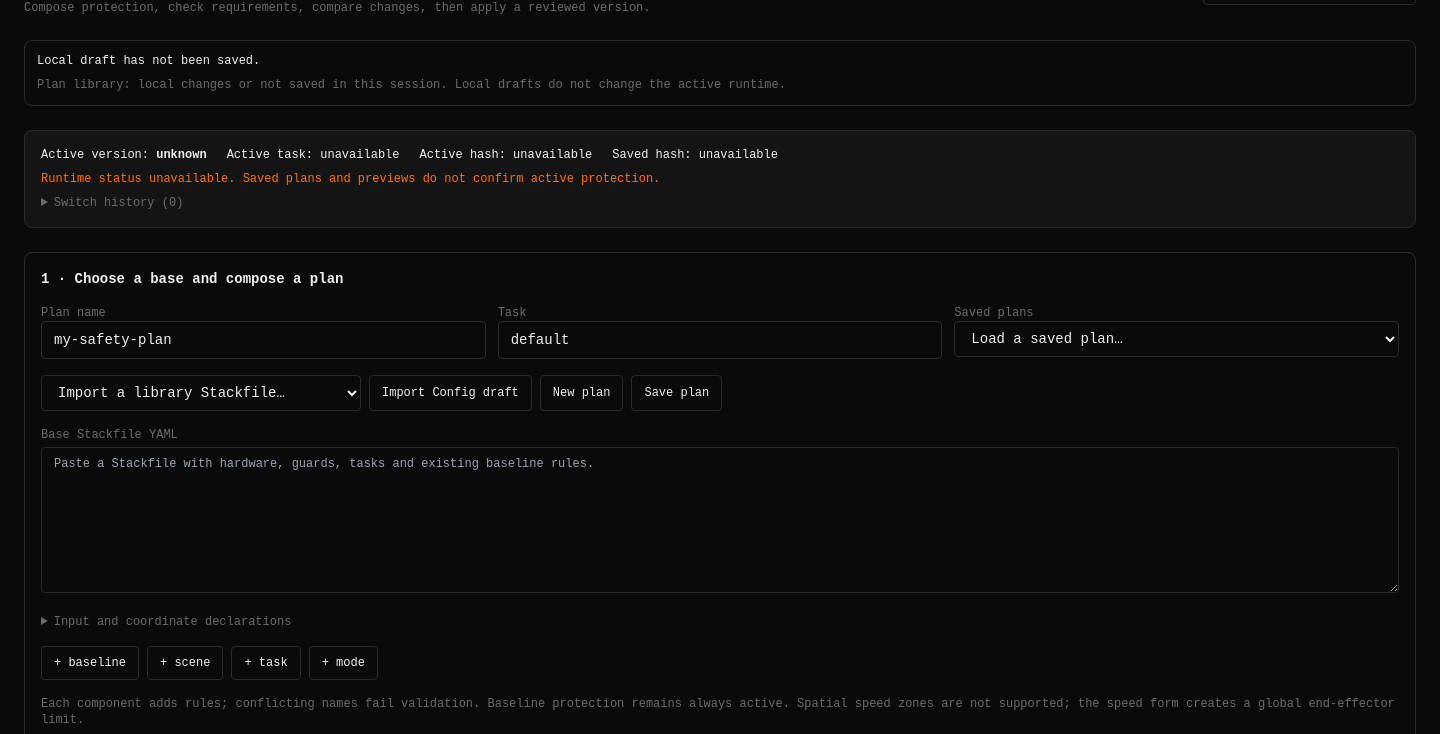
Test: exports the compiled candidate through exclusive Stackfile creation for replay comparison
Step 1. Replace the text in the text box labelled "Base Stackfile YAML" with "version: \"1\"" → point(720, 520), box [41,447,1399,593]
(page scrolled)
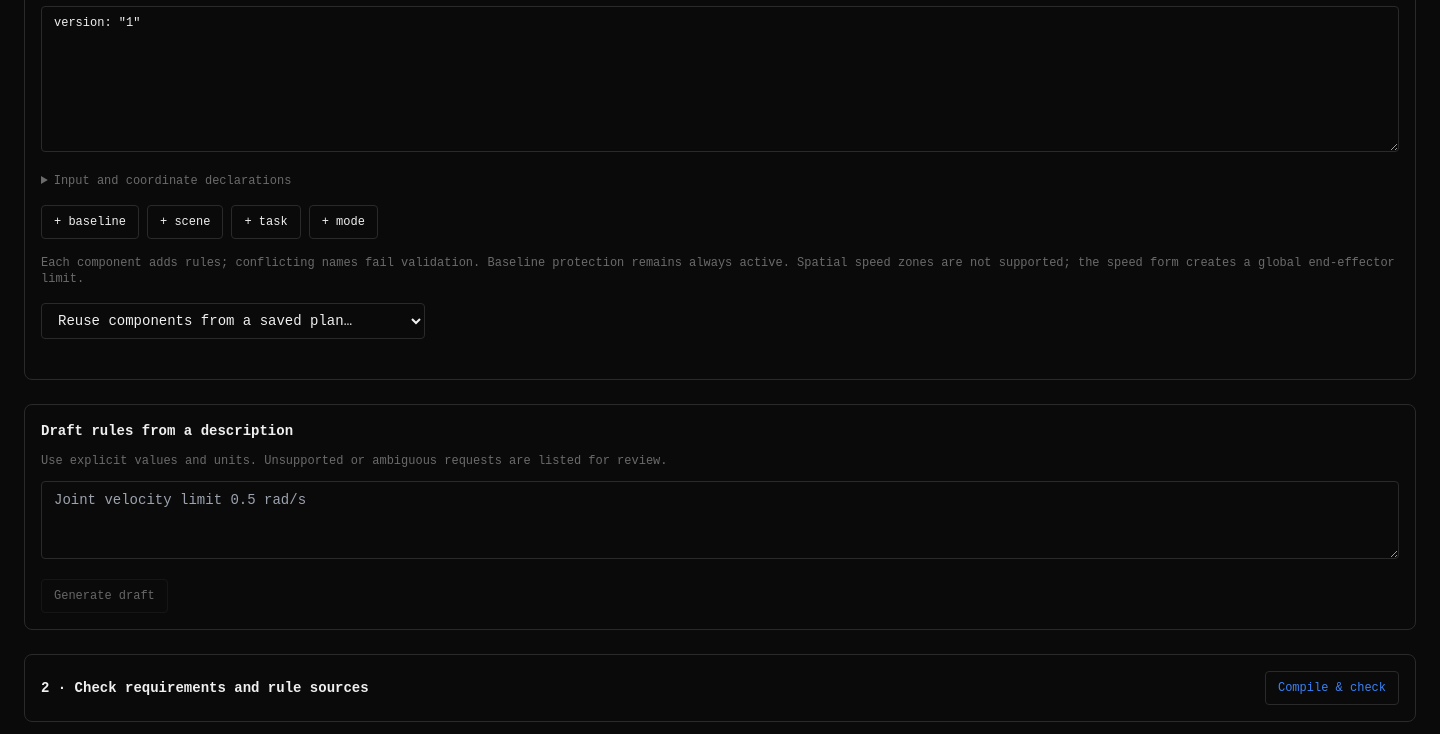
Step 2. Click the button "Compile & check" → point(1332, 688), box [1265,671,1399,705]
(page scrolled)
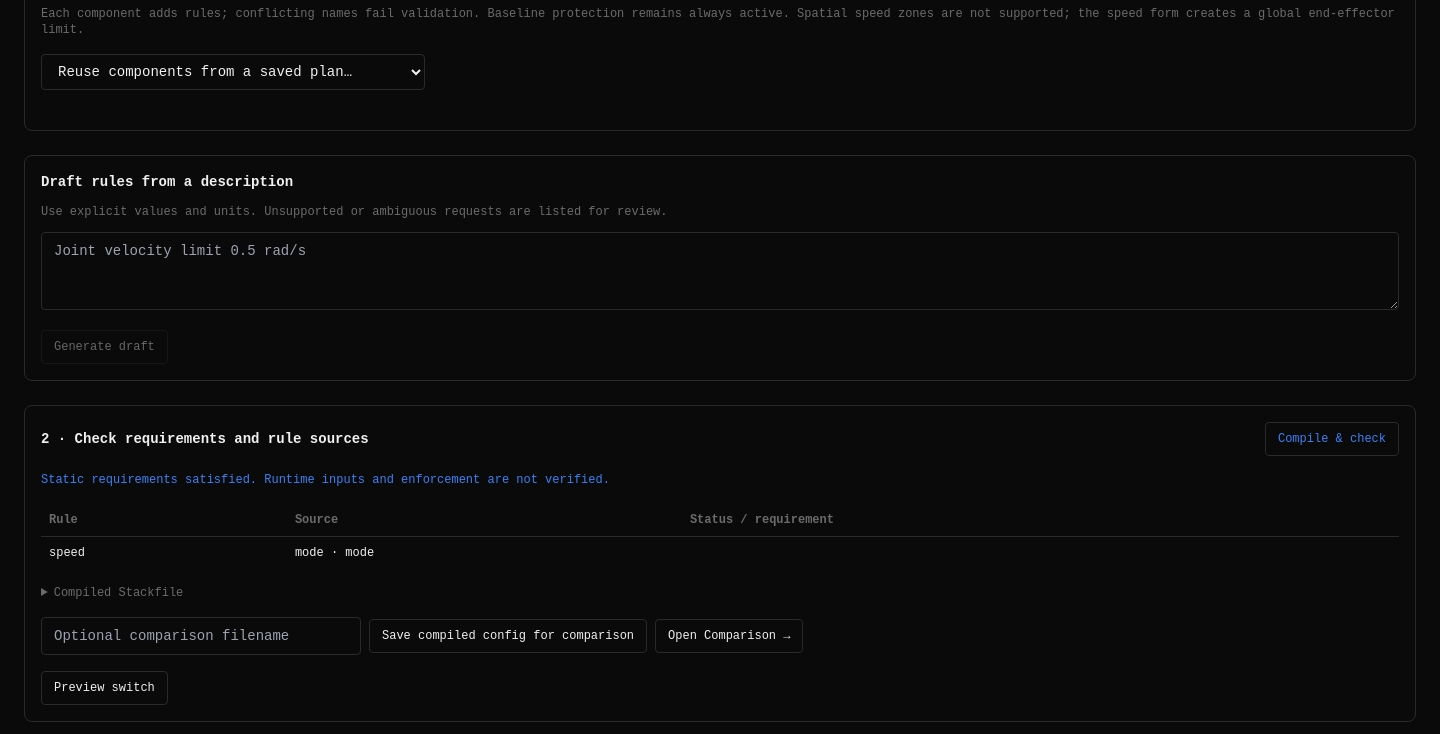
Check: the button "Save compiled config for comparison" is shown, box [369,619,647,653]
Step 3. Type "candidate" into the field named "Comparison Stackfile name" → point(201, 636), box [41,617,361,655]
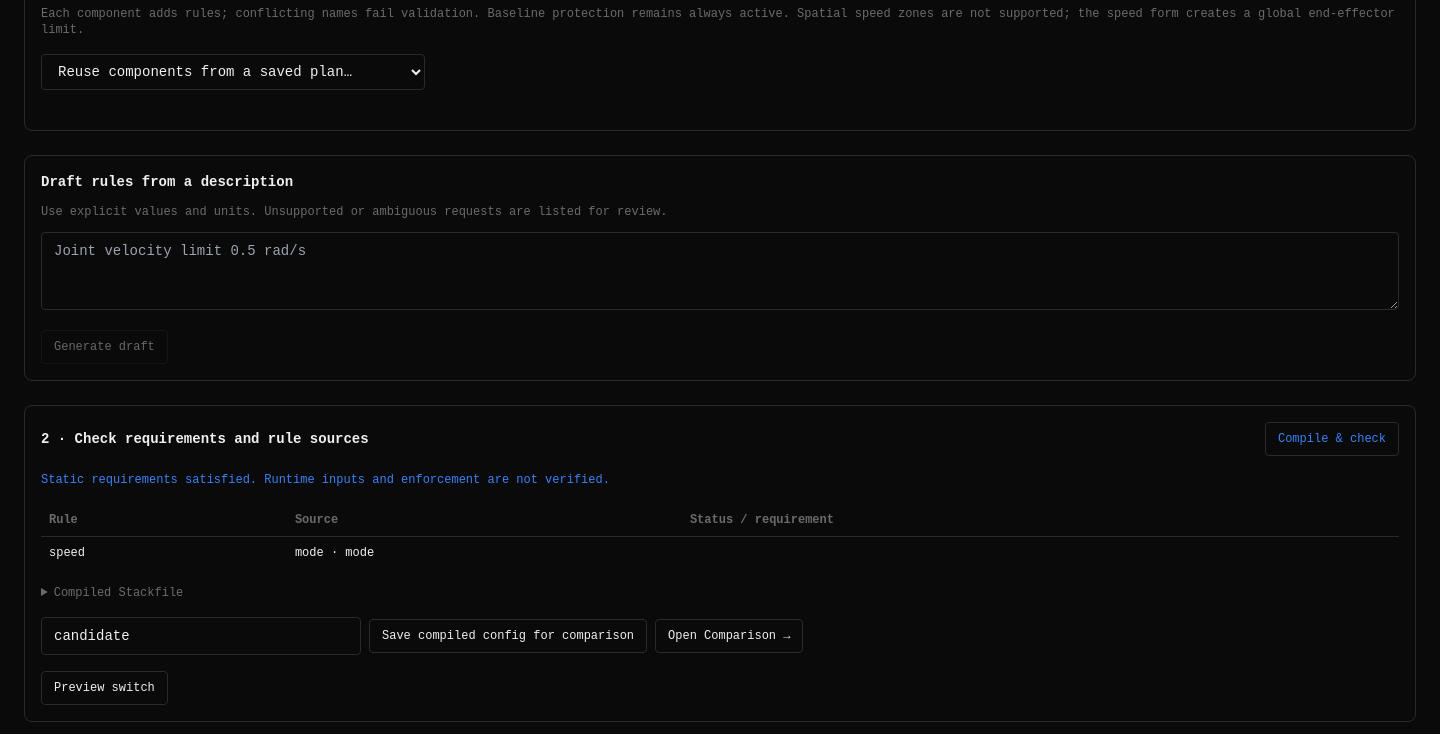
Step 4. Click the button "Save compiled config for comparison" → point(508, 636), box [369,619,647,653]
(page scrolled)
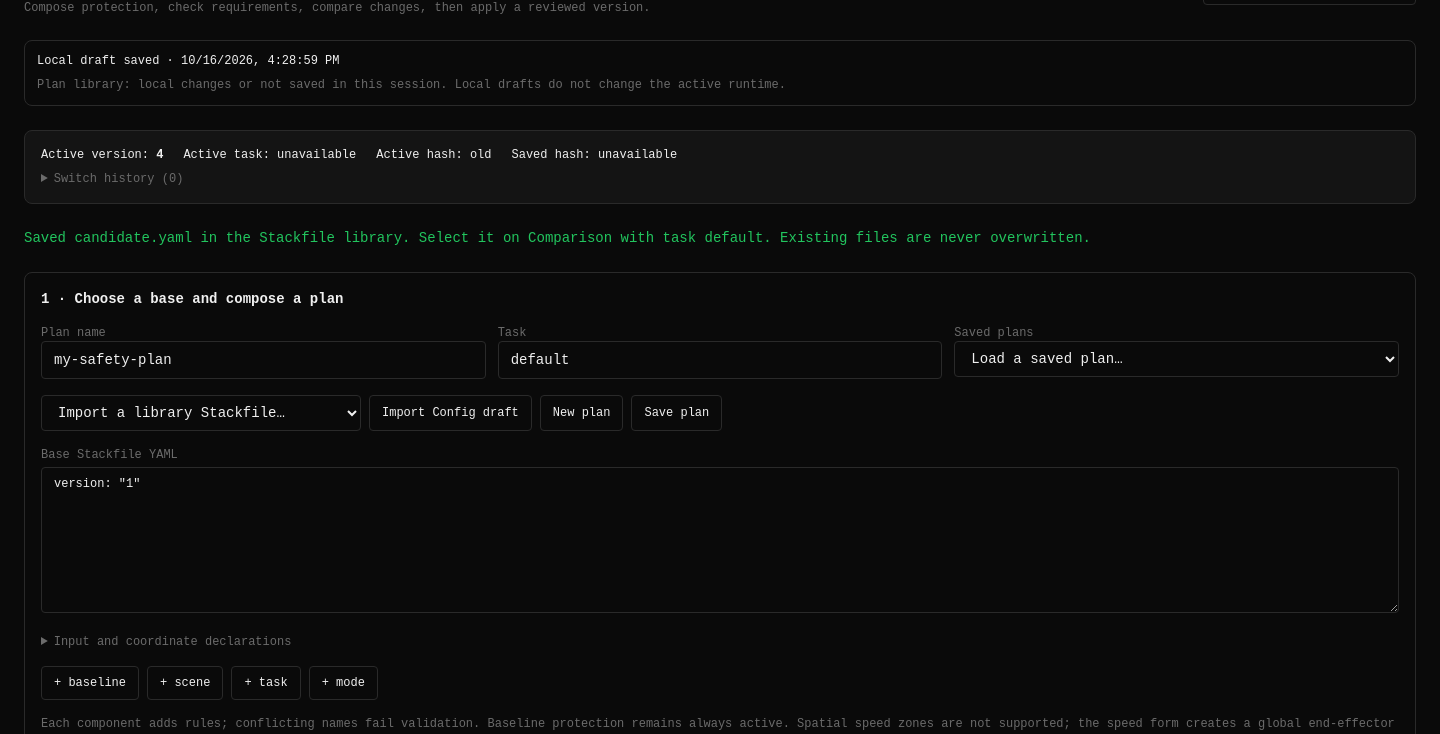
Check: the text "Saved candidate.yaml in the Stackfile library" is shown, box [24,230,1091,246]
